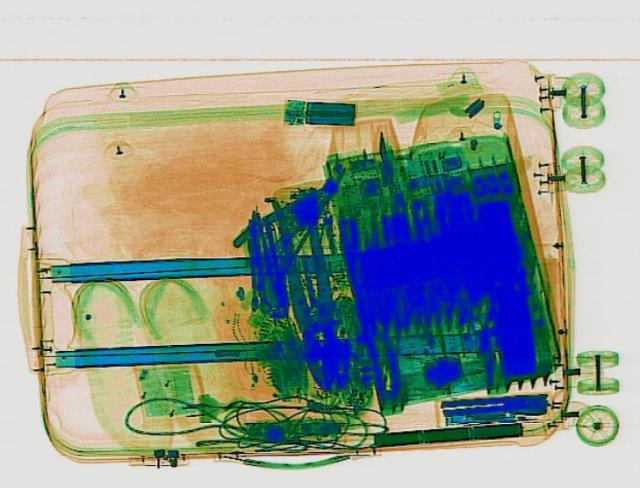Pliers: (274, 194, 346, 392)
